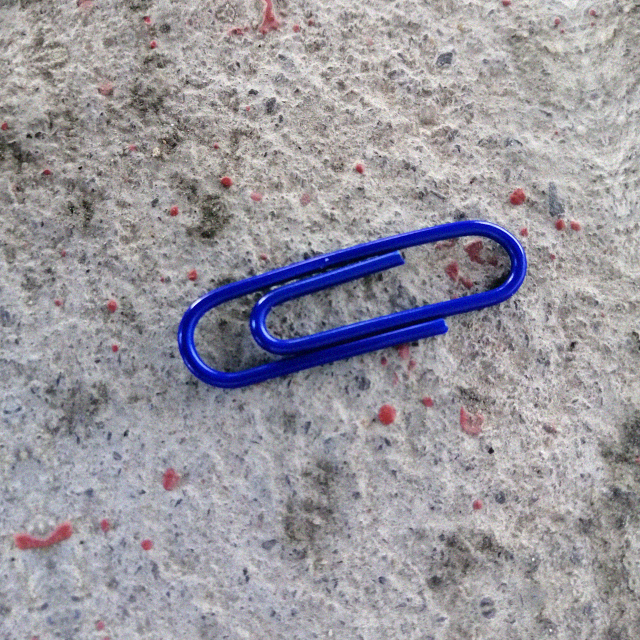pin: (172, 210, 532, 391)
